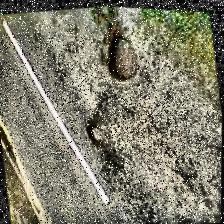pothole: (90, 4, 150, 86), (81, 118, 109, 146)
